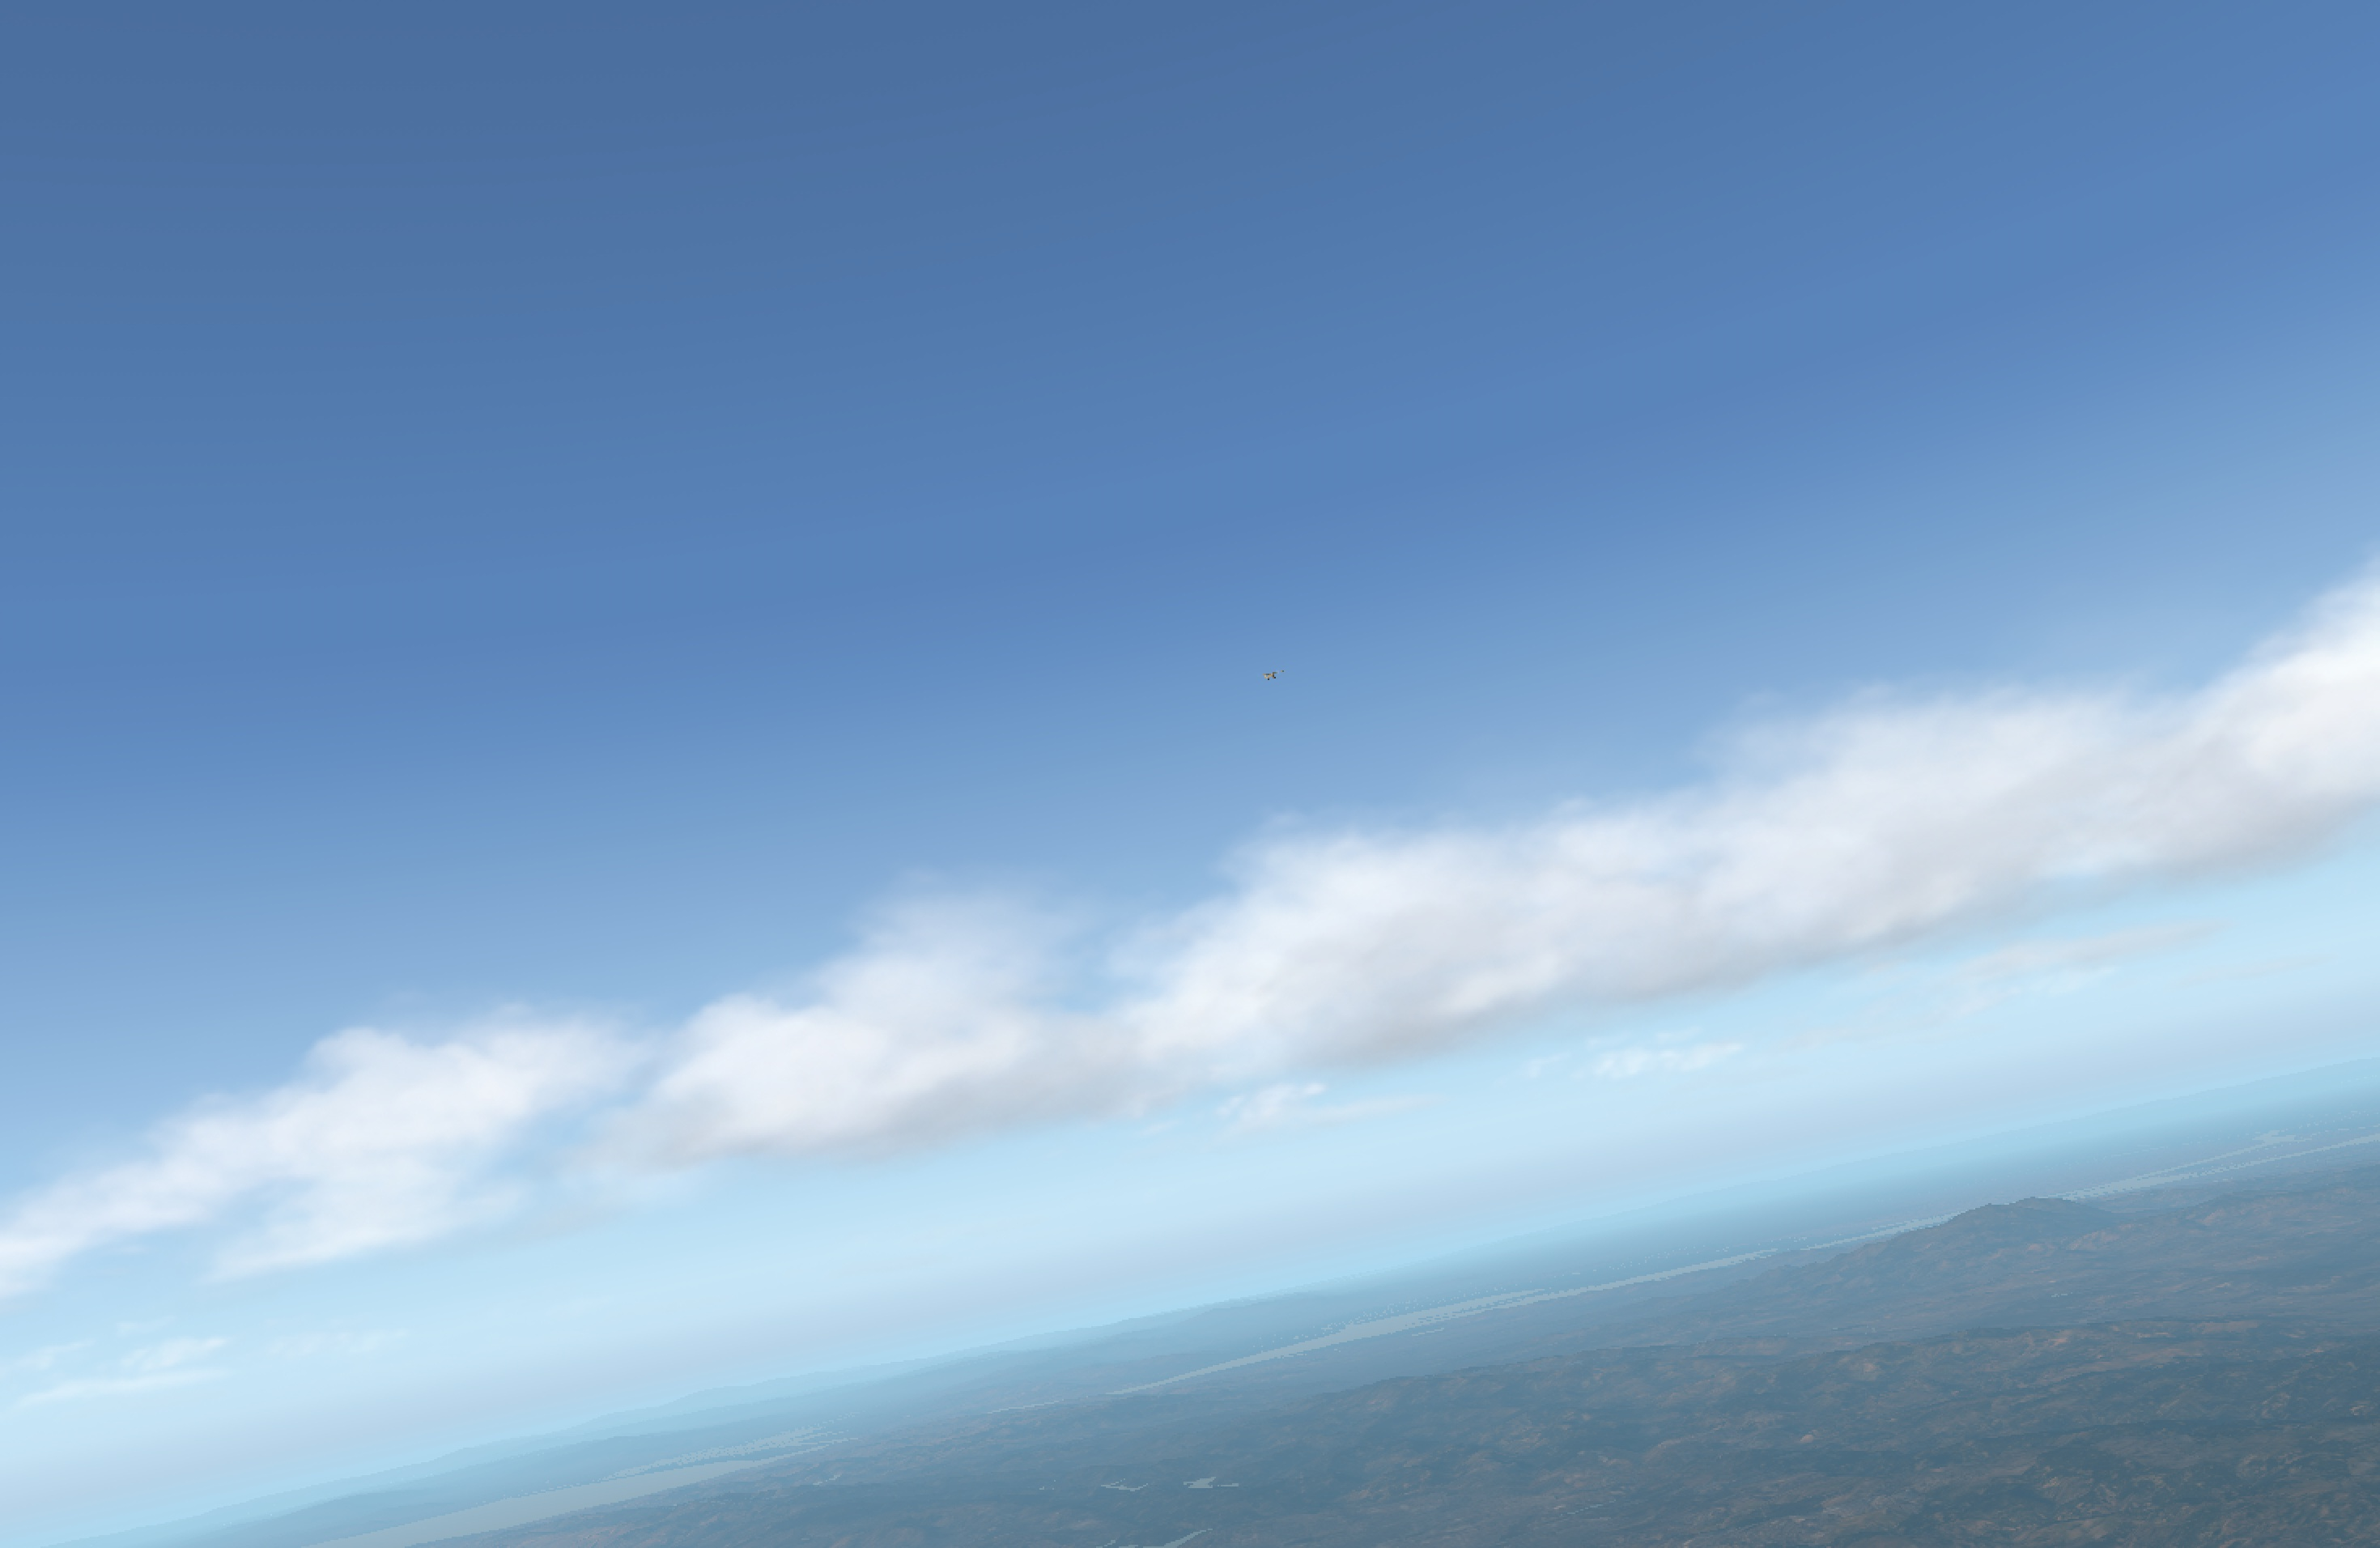aircraft: (1261, 672, 1282, 679)
